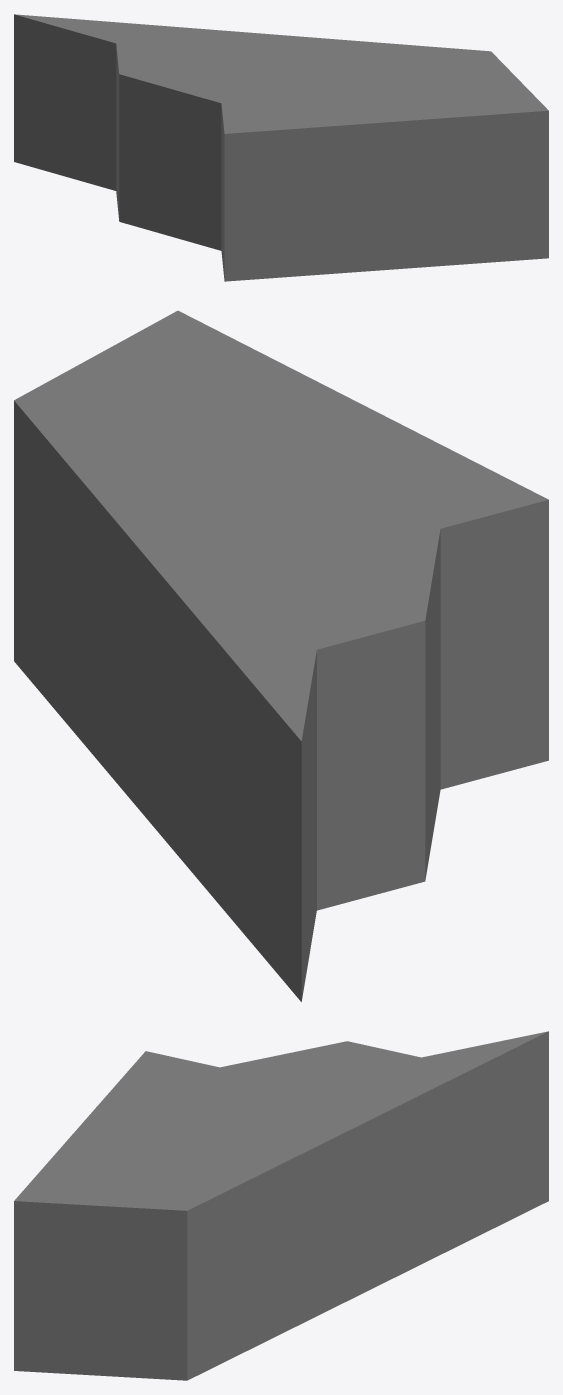
The model's file is base_destroyed_1.glb.
3 renders of one model, top to bottom at view 1: azimuth 30°, elevation 25°; view 2: azimuth 150°, elevation 25°; view 3: azimuth 270°, elevation 25°, orthographic. The views are drawn at different scales.
Parts seen in each view (by area): view 1: base_destroyed_1; view 2: base_destroyed_1; view 3: base_destroyed_1.
Part boxes in pixels (x1,y1,x2,y2): base_destroyed_1: (14,14,548,281); base_destroyed_1: (14,310,548,1001); base_destroyed_1: (14,1031,548,1380).
Size of the model in its own units: 0.4536 by 0.2 by 0.5709.
1 material, 1 textured.
